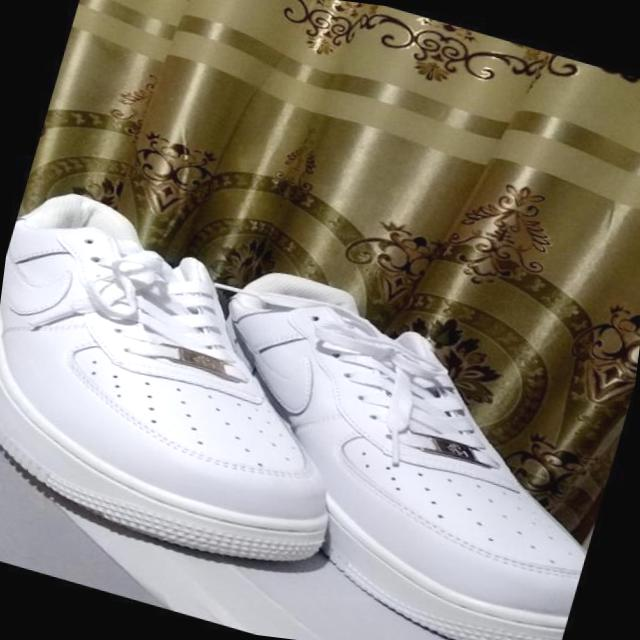nike_fake_airforce: (58, 223, 640, 640), (0, 173, 411, 605)
